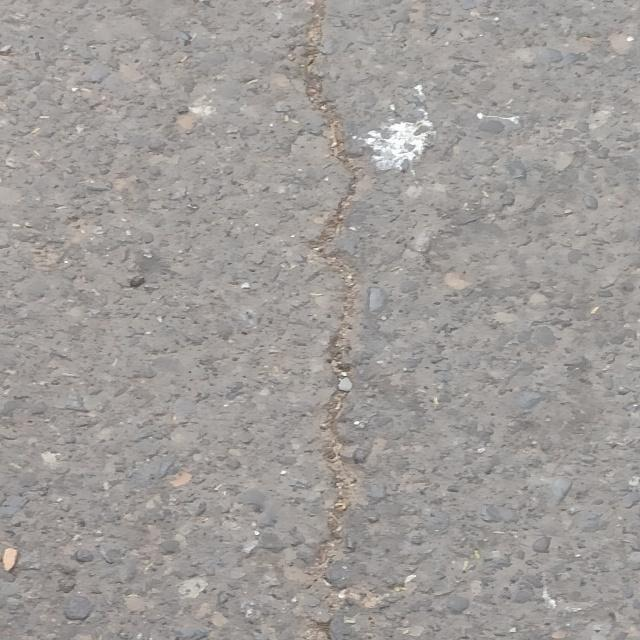Crack: (222, 0, 481, 640)
